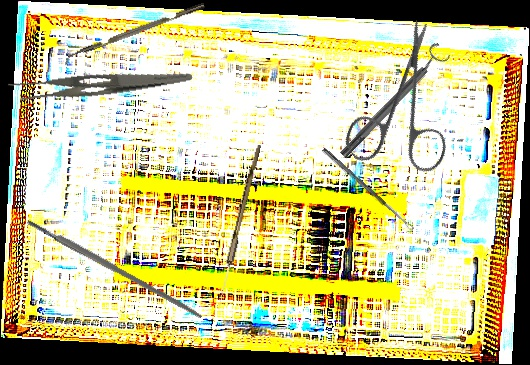Chopper: (61, 2, 208, 67)
Dressing Forceps: (6, 52, 194, 111)
Fixation Ring: (333, 41, 453, 163)
Iris Scissors: (309, 16, 496, 203)
Scalpel Handle: (26, 216, 204, 321)
Surgical Spoon: (321, 147, 415, 232), (215, 143, 262, 309)
